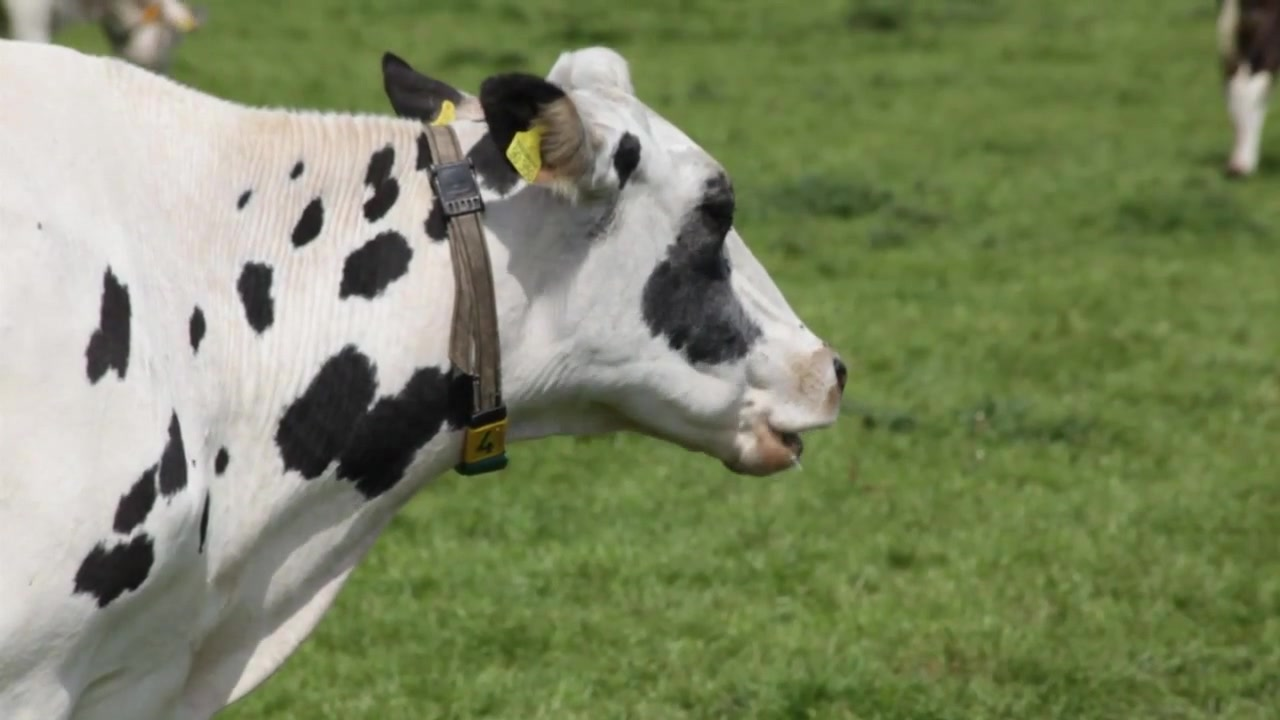cow: (1, 36, 855, 720)
